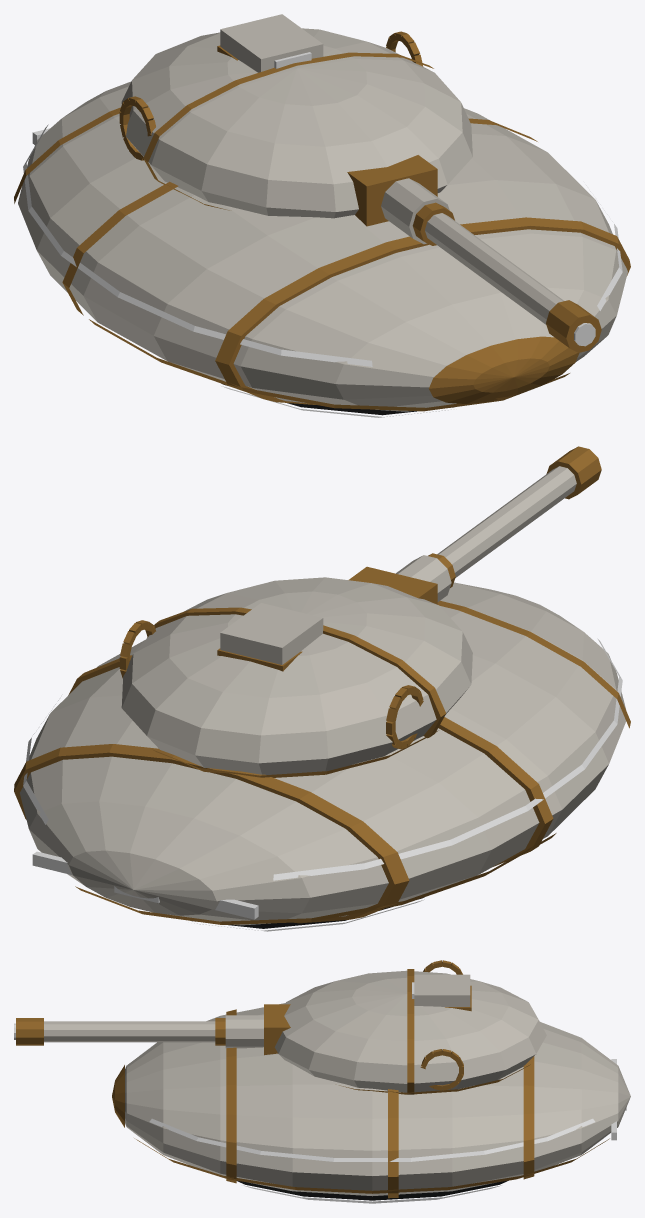
Rendered from tank.glb.
The picture shows the model from 3 angles, top to bottom: view 1: azimuth 30°, elevation 25°; view 2: azimuth 150°, elevation 25°; view 3: azimuth 270°, elevation 25°; orthographic projection. The views are drawn at different scales.
Visible parts, largest first — view 1: body, top; view 2: body, top; view 3: body, top.
Boxes of the visible parts, x1,y1,x2,y2 form: body: (14, 81, 630, 417); top: (119, 14, 601, 352); body: (14, 582, 630, 931); top: (119, 446, 601, 777); body: (112, 1003, 630, 1203); top: (14, 960, 546, 1094).
Size of the model in its own units: 5.46 by 2.9 by 8.83.
